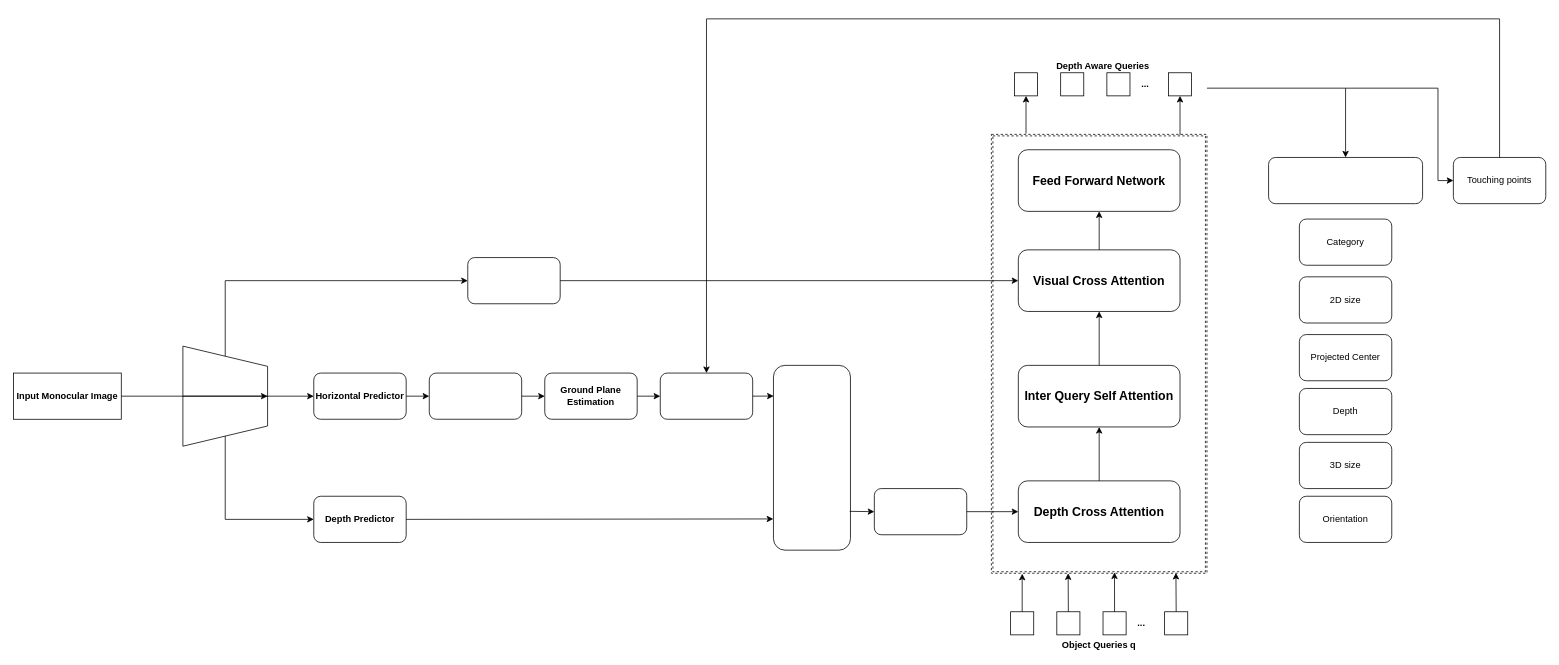
This 1559x665 diagram has some shape labels left out. Each missing label, with the box of its shape:
Depth Encoder: (874, 488, 967, 535)
Depth Fussion: (773, 365, 850, 550)
Depth Guided Decoder x3: (991, 134, 1207, 573)
Detection Heads: (1268, 157, 1423, 204)
Feature Backbone Resnet-50: (182, 345, 268, 446)
Geometry based depth: (660, 372, 753, 419)
Vertical Edge Refinement: (429, 372, 522, 419)
Visual Encoder x3: (467, 257, 560, 304)
